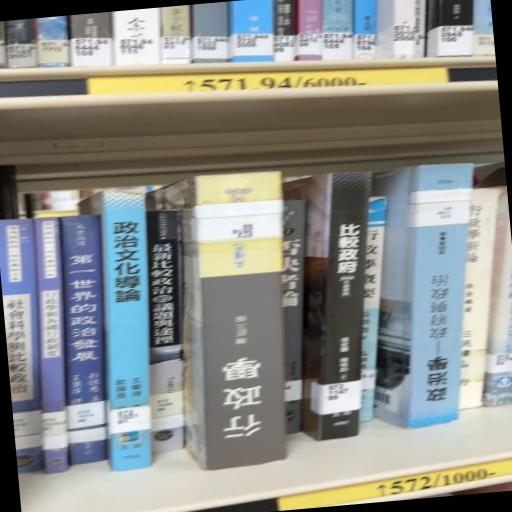reverse: (148, 173, 288, 471), (374, 165, 474, 429)
